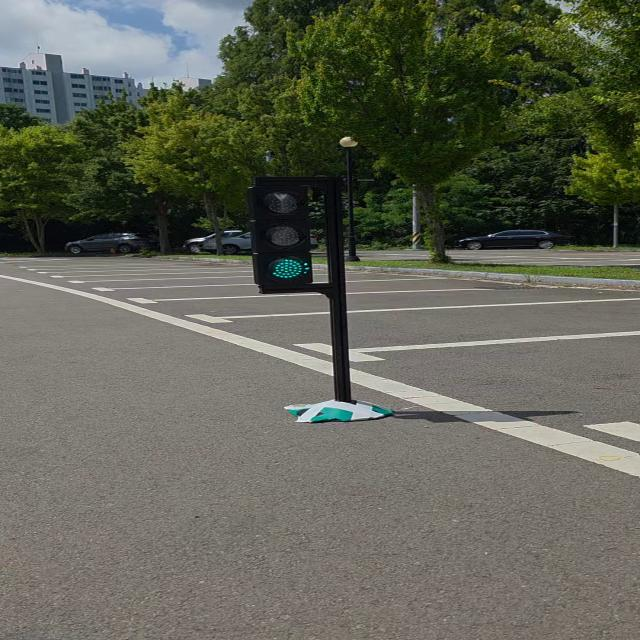green: (255, 185, 315, 292)
